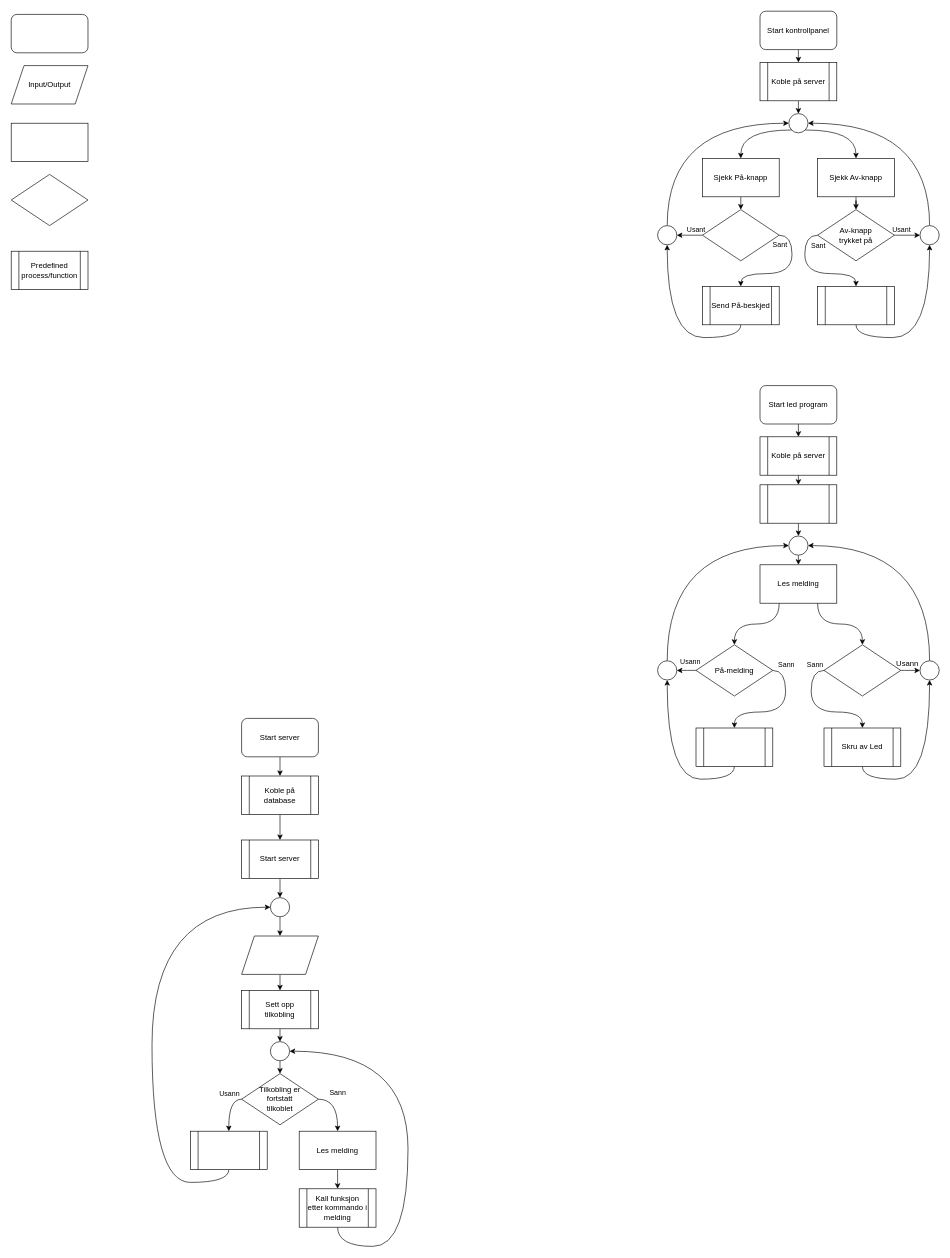
Image size: 950x1258. Some labels were removed from this diagram. Here are the shapes that lost their labels. From the top down, the centre of each, then its label:
the point at 49,33: stop/start
the point at 49,142: Processing (data manipulation and arithmetic operations)
the point at 49,200: Decision
the point at 740,235: På-knapp trykket på
the point at 855,305: Send Av-beskjed
the point at 798,503: Lytt på led-addresse
the point at 862,670: Av-melding
the point at 734,746: Skru på Led
the point at 279,954: Ny tilkobling
the point at 228,1150: Fjern tilkobling
